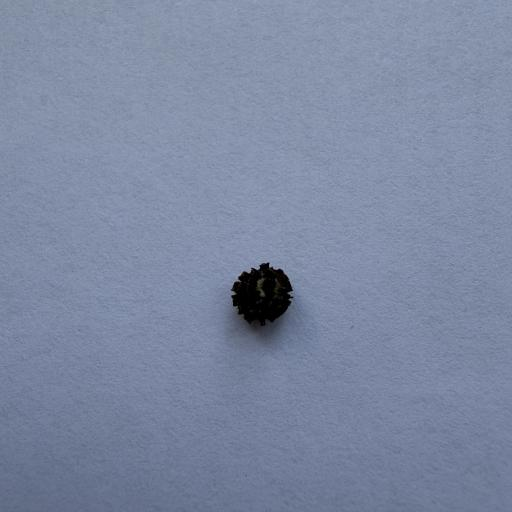papaya_seed: (203, 239, 322, 335)
